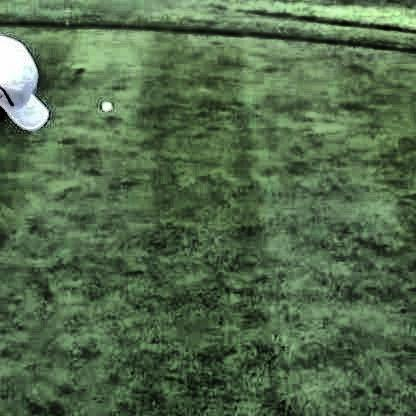golfball: (99, 99, 109, 111)
